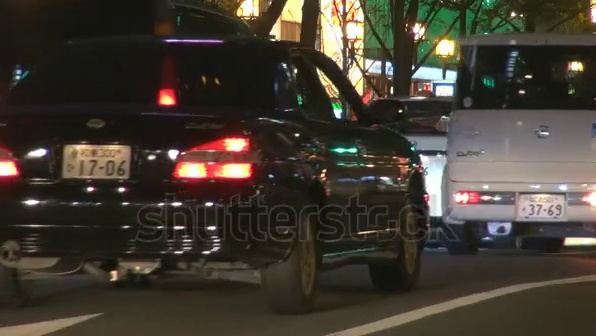licenseplate: (64, 136, 132, 186), (517, 194, 567, 222)
